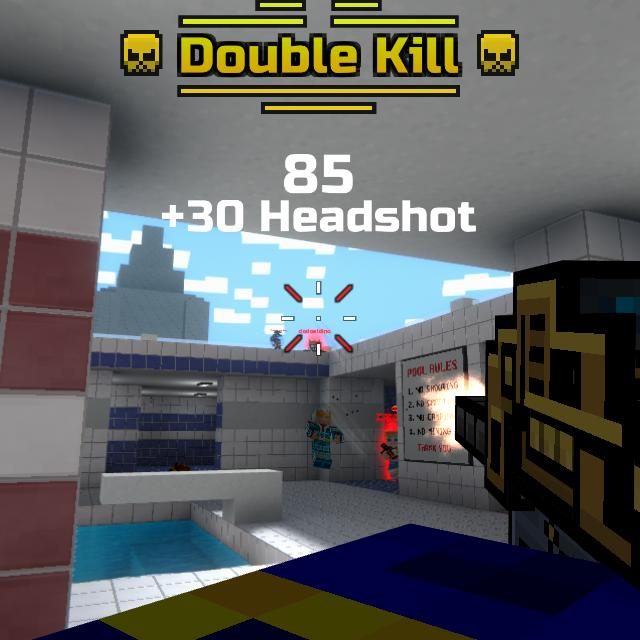Enemy: (380, 431, 398, 480), (305, 338, 326, 353)
